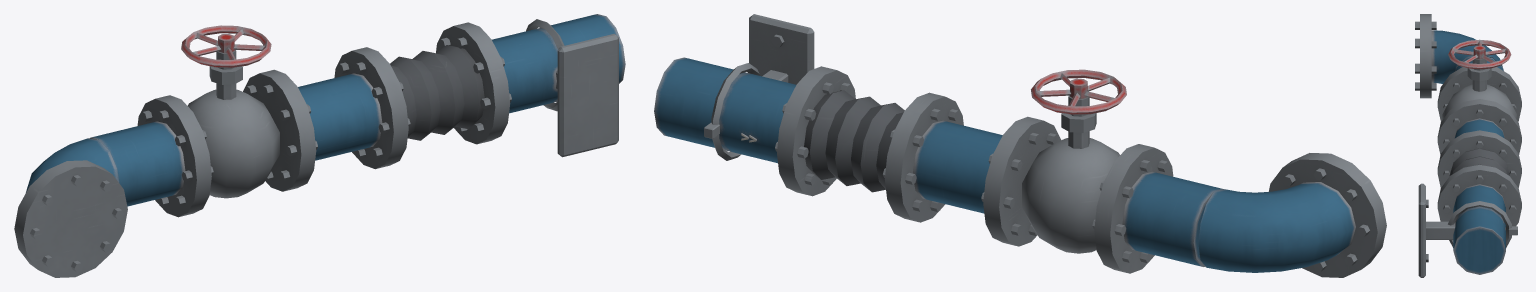
Rendered from tuberia_modular.fbx.
3 renders of one model, left to right at view 1: azimuth 30°, elevation 25°; view 2: azimuth 150°, elevation 25°; view 3: azimuth 270°, elevation 25°, orthographic. The views are drawn at different scales.
Visible parts, largest first — view 1: tuberia_modular; view 2: tuberia_modular; view 3: tuberia_modular.
Part boxes in pixels (bbox=[...]): tuberia_modular: bbox=[14, 14, 625, 277]; tuberia_modular: bbox=[654, 14, 1386, 277]; tuberia_modular: bbox=[1415, 14, 1521, 277].
Bounding box in the file's own units: 4.2 × 1.03 × 0.892.
Materials: 1 (1 with a texture image).
